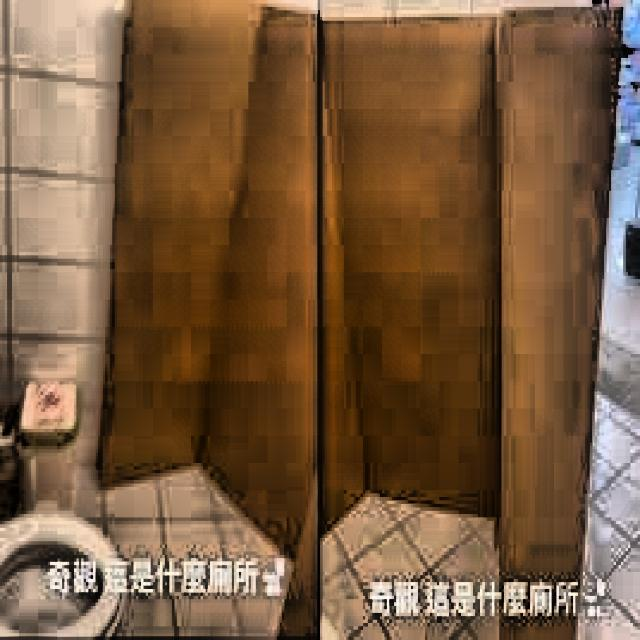cardboard: (116, 0, 601, 538)
